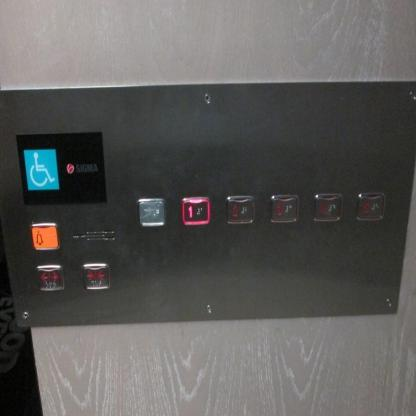1: (180, 194, 210, 226)
2: (222, 192, 256, 226)
3: (268, 192, 299, 224)
4: (311, 190, 344, 223)
5: (353, 189, 386, 222)
CH: (22, 147, 60, 191)
alarm: (28, 220, 60, 251)
blur: (134, 195, 167, 229)
close: (80, 260, 111, 292)
open: (34, 261, 66, 293)
